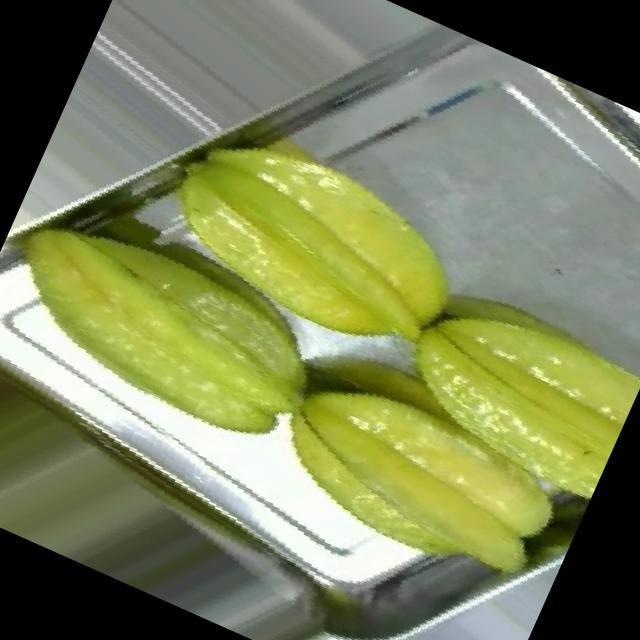fruit: (239, 180, 640, 640), (108, 40, 539, 428), (0, 129, 393, 510)
